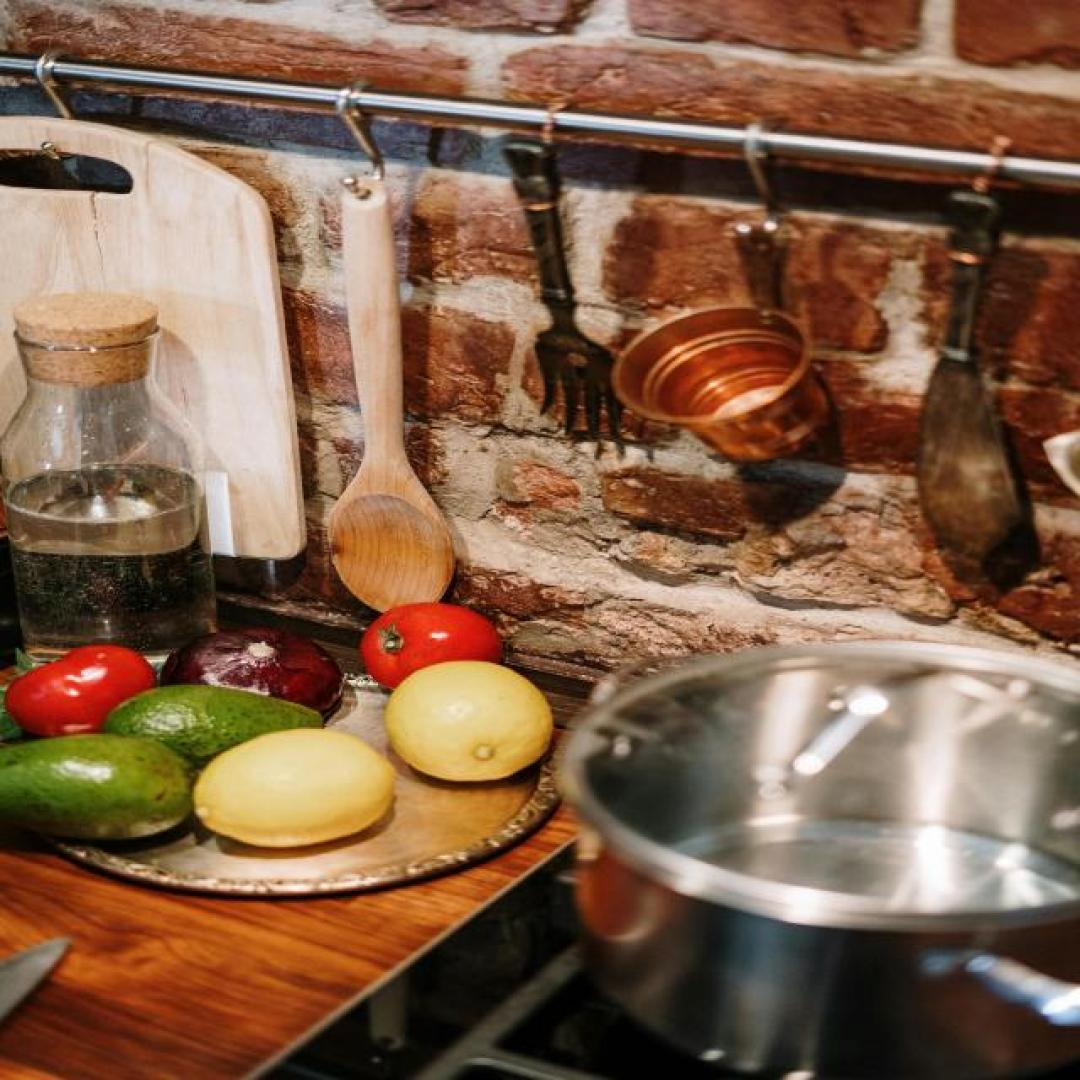matang: (7, 643, 160, 739), (358, 603, 503, 696)
